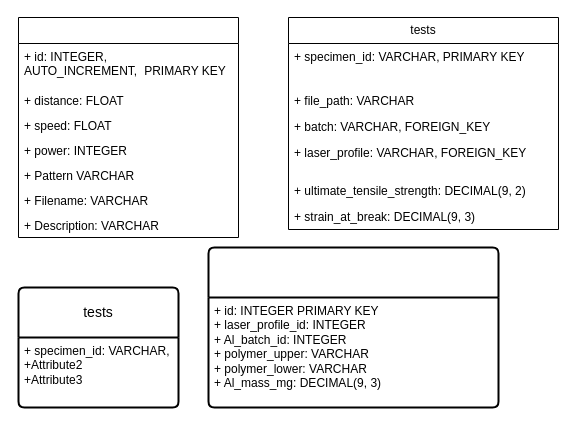
This 576x426 diagram has some shape labels left out. The shapes that lost their labels are listed below. From the top down, each one's box as (x1, y1, x2, y2) in pixels, then its label:
(18, 16, 238, 238): lasermethods
(207, 246, 499, 408): batches
